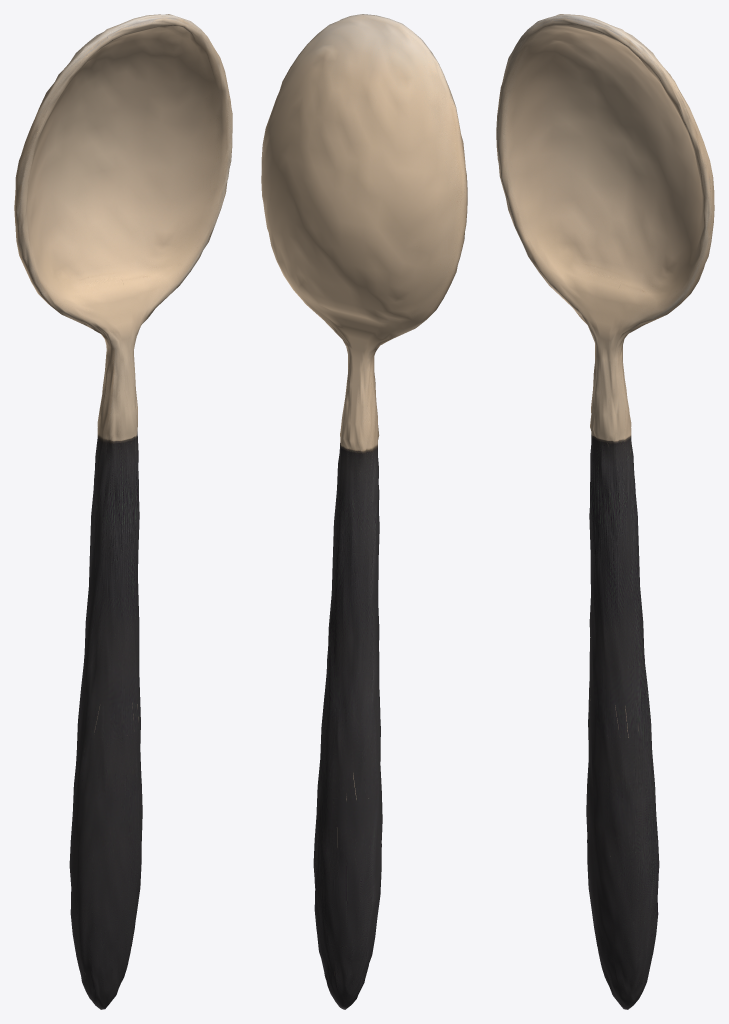
Rendered from Velo_Gold_and_Black_Table_spoon_0225003223_texture.glb.
3 views of the same model, side by side, from view 1: azimuth 30°, elevation 25°; view 2: azimuth 150°, elevation 25°; view 3: azimuth 330°, elevation 25° (orthographic). The views are drawn at different scales.
Visible parts, largest first — view 1: Mesh_0; view 2: Mesh_0; view 3: Mesh_0.
Boxes of the visible parts, x1,y1,x2,y2 form: Mesh_0: (14,14,232,1009); Mesh_0: (261,14,467,1009); Mesh_0: (496,14,714,1009).
Size of the model in its own units: 0.0446 by 0.2032 by 0.0196.
1 material, 1 textured.
